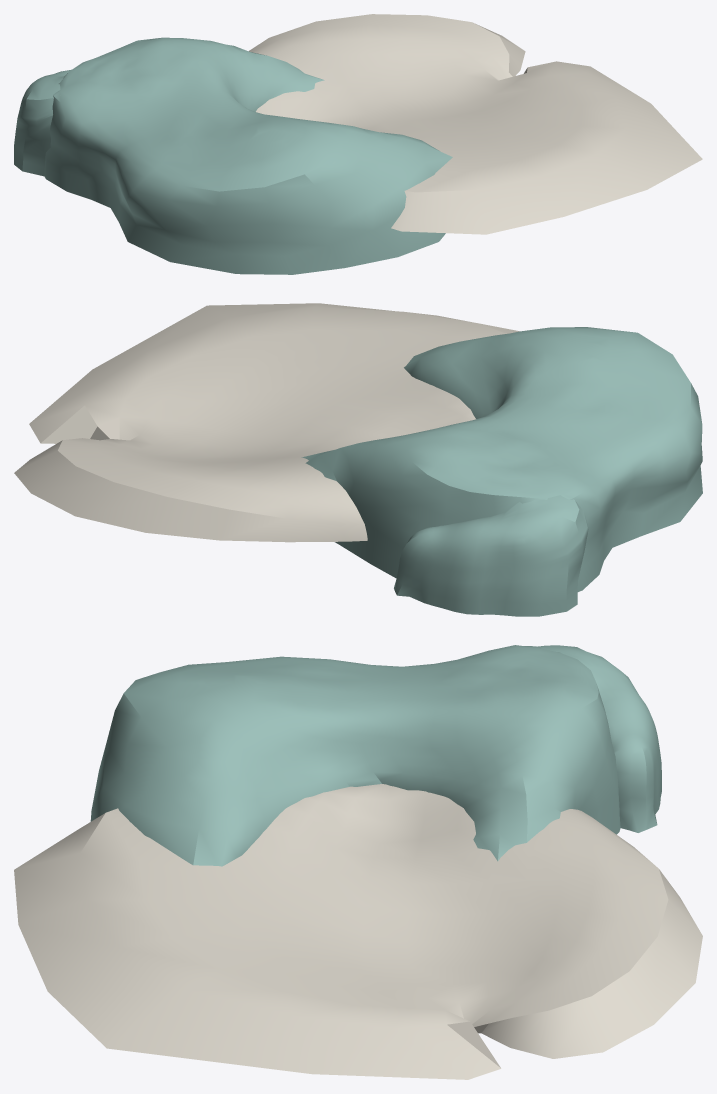
File: SM_Island_003.fbx
3 views of the same model, one above another, from view 1: azimuth 30°, elevation 25°; view 2: azimuth 150°, elevation 25°; view 3: azimuth 270°, elevation 25° (orthographic). The views are drawn at different scales.
Parts seen in each view (by area): view 1: SM_Island_003; view 2: SM_Island_003; view 3: SM_Island_003.
Boxes of the visible parts, x1,y1,x2,y2 form: SM_Island_003: [14, 14, 702, 274]; SM_Island_003: [14, 303, 702, 616]; SM_Island_003: [14, 645, 702, 1079].
Size of the model in its own units: 34774 by 6594 by 29314.
